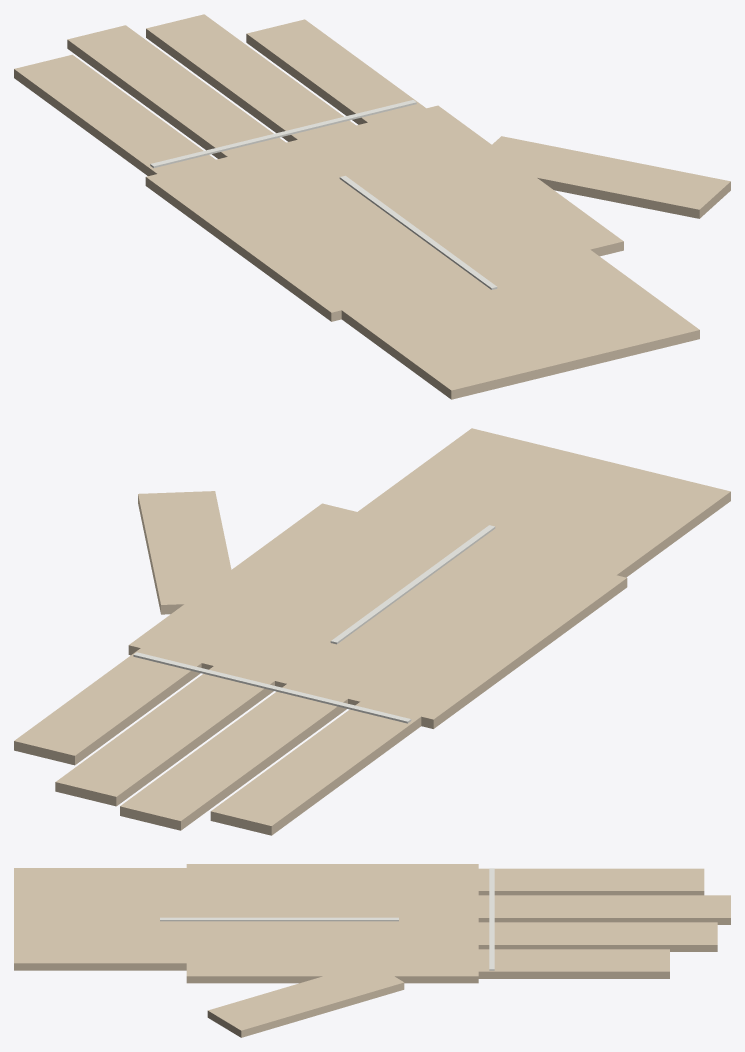
File: prop-glove-pattern-blank.fbx
The picture shows the model from 3 angles, top to bottom: view 1: azimuth 30°, elevation 25°; view 2: azimuth 150°, elevation 25°; view 3: azimuth 270°, elevation 25°; orthographic projection. The views are drawn at different scales.
Parts seen in each view (by area): view 1: prop-glove-pattern-blank; view 2: prop-glove-pattern-blank; view 3: prop-glove-pattern-blank.
Boxes of the visible parts, left/top/right/bottom form: prop-glove-pattern-blank: left=14, top=14, right=730, bottom=399; prop-glove-pattern-blank: left=14, top=428, right=730, bottom=835; prop-glove-pattern-blank: left=14, top=864, right=730, bottom=1037.
Bounding box in the file's own units: 14.85 × 0.36 × 27.
